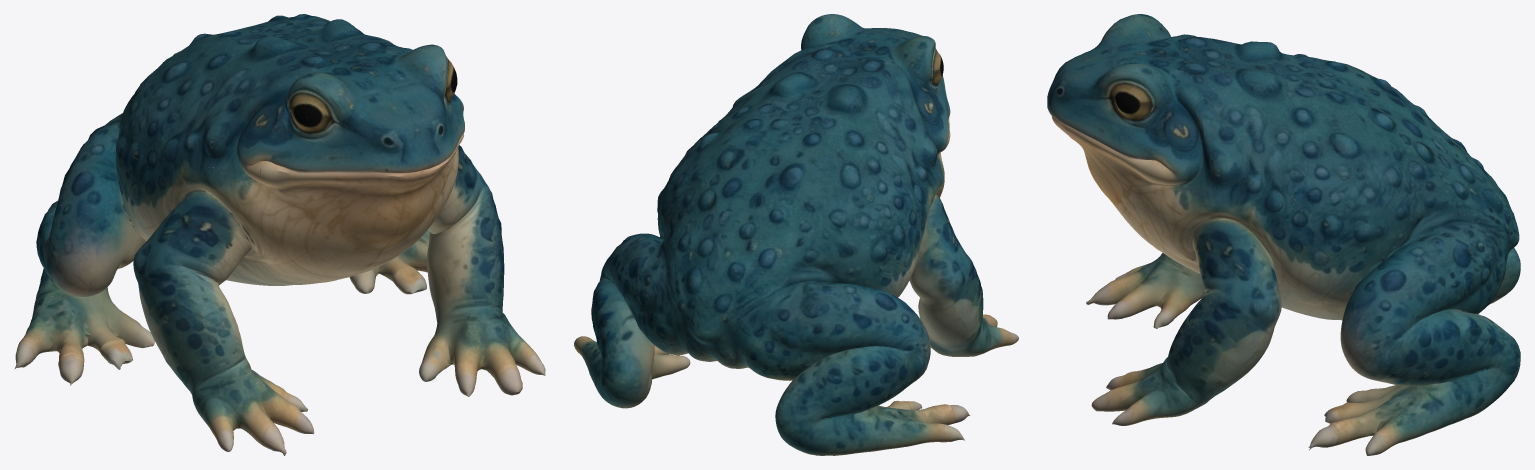
Rendered from torrentoad.glb.
3 views of the same model, side by side, from view 1: azimuth 30°, elevation 25°; view 2: azimuth 150°, elevation 25°; view 3: azimuth 270°, elevation 25° (orthographic). The views are drawn at different scales.
Parts seen in each view (by area): view 1: Mesh_0; view 2: Mesh_0; view 3: Mesh_0.
Part boxes in pixels (box(x1,y1,x2,y2)): Mesh_0: box(14, 14, 545, 455); Mesh_0: box(574, 14, 1018, 455); Mesh_0: box(1047, 14, 1520, 455).
Size of the model in its own units: 1.88 by 1.34 by 1.82.
Materials: 1 (1 with a texture image).
